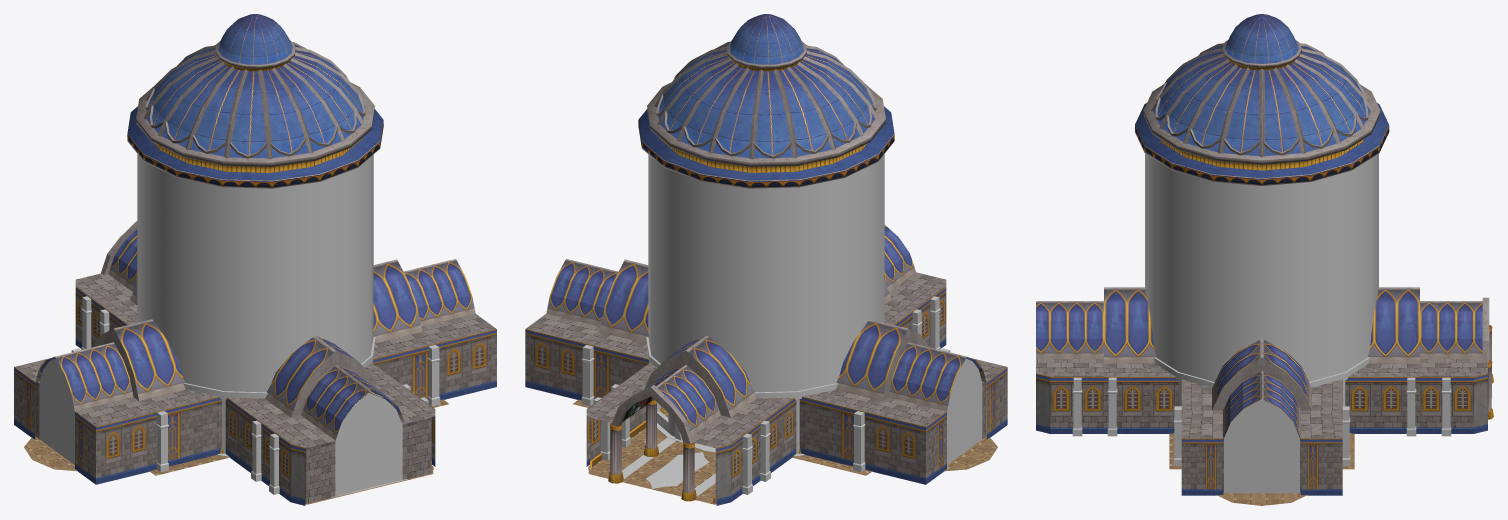
Rendered from NewBattle03_all03.FBX.
The picture shows the model from 3 angles, left to right: view 1: azimuth 30°, elevation 25°; view 2: azimuth 150°, elevation 25°; view 3: azimuth 270°, elevation 25°; orthographic projection.
Parts seen in each view (by area): view 1: NewBattle03_Wall03_02, NewBattle03_Wall03_01, NewBattle03_IntWall03_03, NewBattle03_IntWall03_01, NewBattle03_Interior03_04, NewBattle03_ground03_01, NewBattle03_Interior03_01; view 2: NewBattle03_Wall03_02, NewBattle03_Wall03_01, NewBattle03_Interior03_04, NewBattle03_ground03_01, NewBattle03_Interior03_01, NewBattle03_IntWall03_03, NewBattle03_IntWall03_01, NewBattle03_Interior03_02; view 3: NewBattle03_Wall03_02, NewBattle03_Wall03_01, NewBattle03_IntWall03_03, NewBattle03_Interior03_04, NewBattle03_ground03_01, NewBattle03_Interior03_01.
Boxes of the visible parts, x1,y1,x2,y2 form: NewBattle03_Wall03_02: [14, 14, 496, 505]; NewBattle03_Wall03_01: [137, 154, 375, 453]; NewBattle03_IntWall03_03: [39, 359, 402, 495]; NewBattle03_IntWall03_01: [35, 358, 432, 503]; NewBattle03_Interior03_04: [71, 296, 440, 494]; NewBattle03_ground03_01: [24, 399, 449, 504]; NewBattle03_Interior03_01: [101, 221, 369, 453]; NewBattle03_Wall03_02: [525, 14, 1007, 505]; NewBattle03_Wall03_01: [646, 154, 884, 453]; NewBattle03_Interior03_04: [581, 296, 950, 496]; NewBattle03_ground03_01: [572, 399, 997, 504]; NewBattle03_Interior03_01: [608, 385, 801, 501]; NewBattle03_IntWall03_03: [947, 359, 982, 464]; NewBattle03_IntWall03_01: [590, 358, 986, 503]; NewBattle03_Interior03_02: [646, 452, 709, 488]; NewBattle03_Wall03_02: [1036, 14, 1487, 495]; NewBattle03_Wall03_01: [1145, 153, 1378, 411]; NewBattle03_IntWall03_03: [1224, 399, 1299, 493]; NewBattle03_Interior03_04: [1072, 377, 1451, 465]; NewBattle03_ground03_01: [1169, 433, 1354, 505]; NewBattle03_Interior03_01: [1103, 297, 1493, 421].
Bounding box in the file's own units: 61.82 × 51.94 × 55.86.
